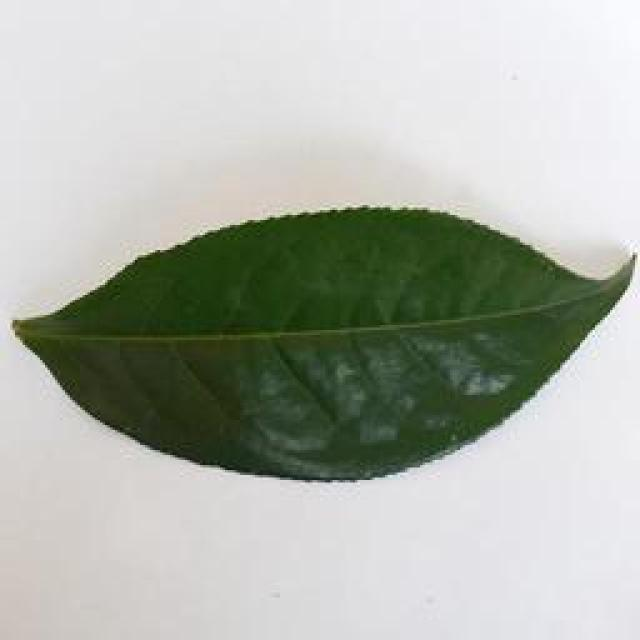Healthy: (26, 212, 634, 479)
